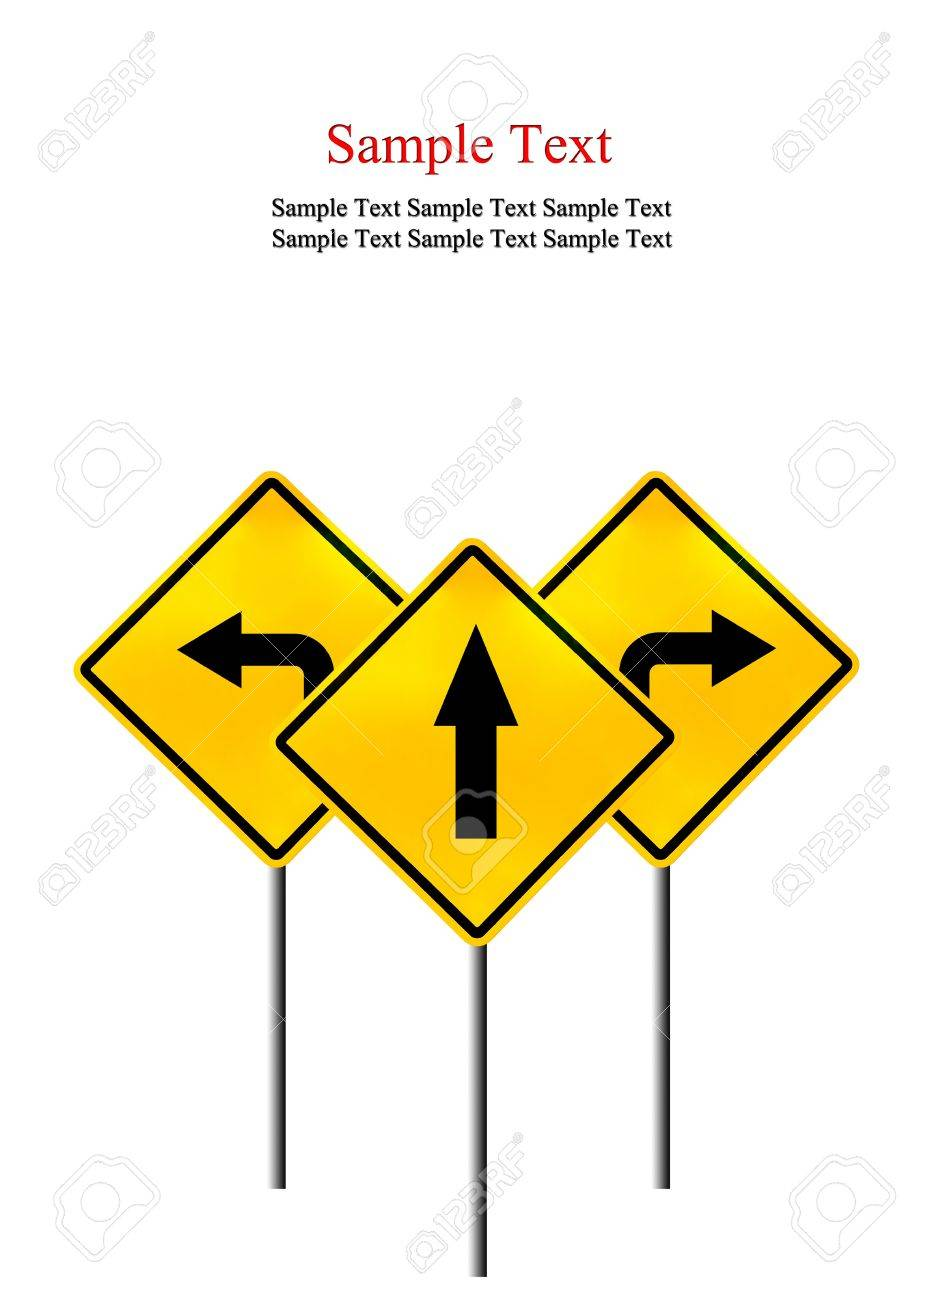left: (73, 471, 430, 863)
right: (505, 472, 855, 863)
